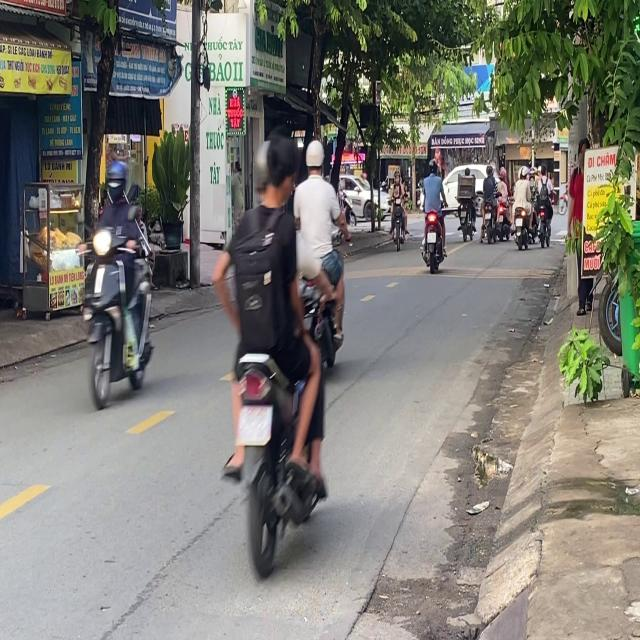helmet: (104, 158, 128, 204), (304, 138, 325, 175)
licenseplate: (210, 126, 336, 574), (79, 157, 157, 408), (290, 136, 347, 373)
motorcyclist: (258, 132, 300, 208)
nohelmet: (236, 406, 272, 444)
